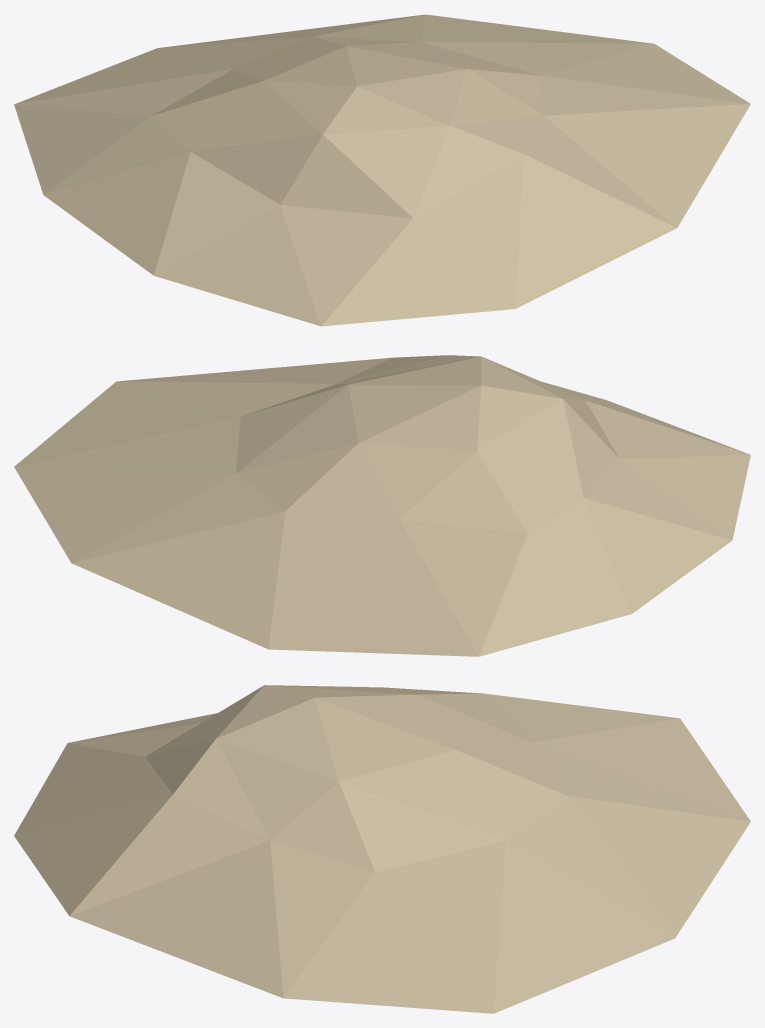
Rendered from island_dirtpile.fbx.
3 views of the same model, one above another, from view 1: azimuth 30°, elevation 25°; view 2: azimuth 150°, elevation 25°; view 3: azimuth 270°, elevation 25° (orthographic). The views are drawn at different scales.
Visible parts, largest first — view 1: Icosphere.008; view 2: Icosphere.008; view 3: Icosphere.008.
Boxes of the visible parts, left/top/right/bottom form: Icosphere.008: left=14, top=14, right=750, bottom=326; Icosphere.008: left=14, top=355, right=750, bottom=656; Icosphere.008: left=14, top=685, right=750, bottom=1013.
Size of the model in its own units: 2.1 by 0.3999 by 2.06.
